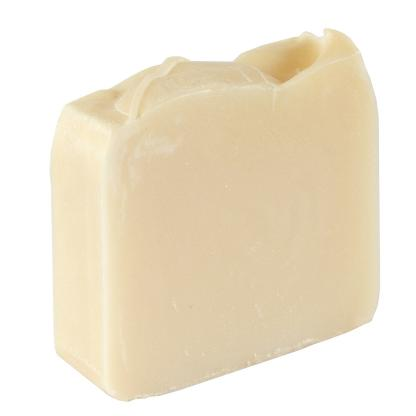soap: (40, 20, 388, 395)
